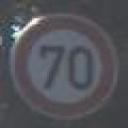speed_limit_70: (11, 12, 117, 118)
